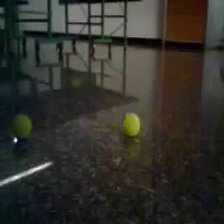tennis: (11, 114, 33, 141), (121, 112, 140, 137)
